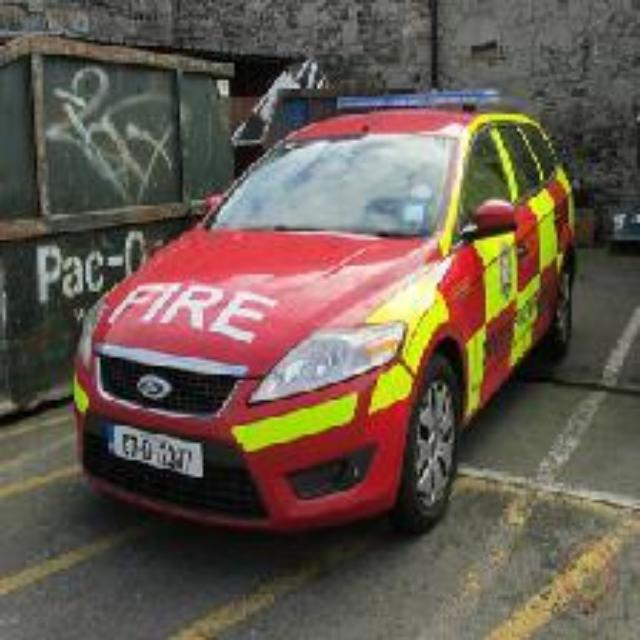emergency: (70, 82, 582, 538)
